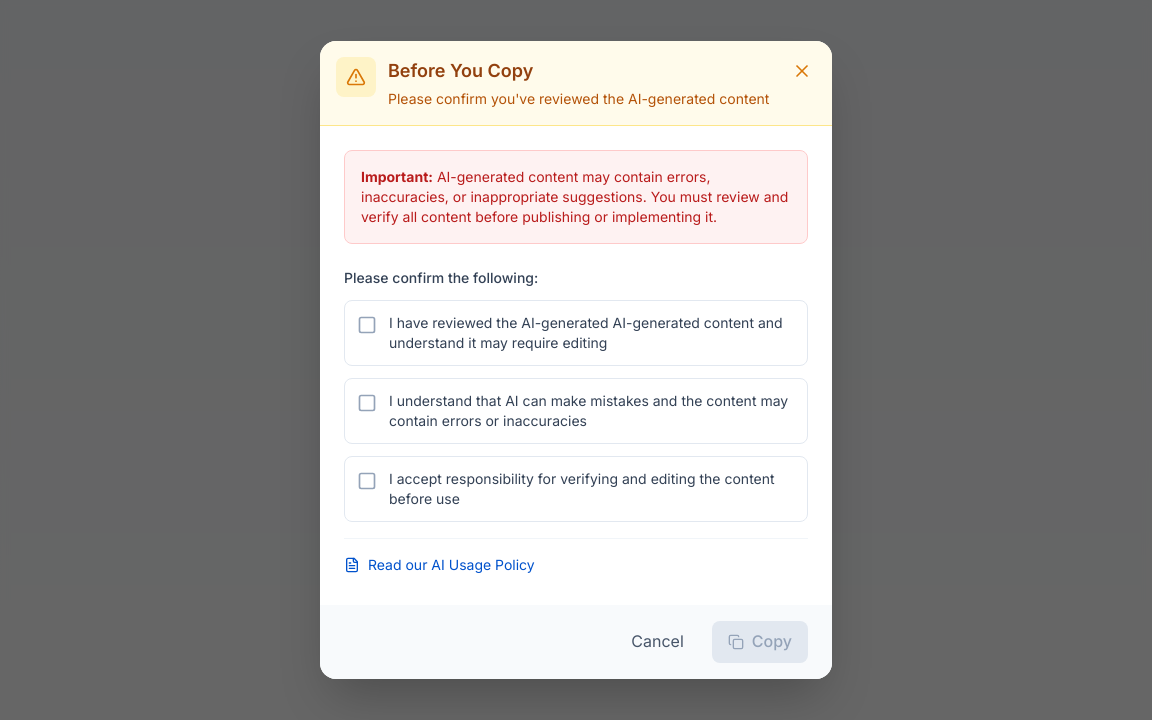
Scenario: AIExportConfirmation › interactions › enables export button when all acknowledgments are checked
Click on the text of each acknowledgment (they are buttons styled as checkboxes)
Click the button "I have reviewed the AI-generated" at (576, 333), box [344, 300, 808, 366]
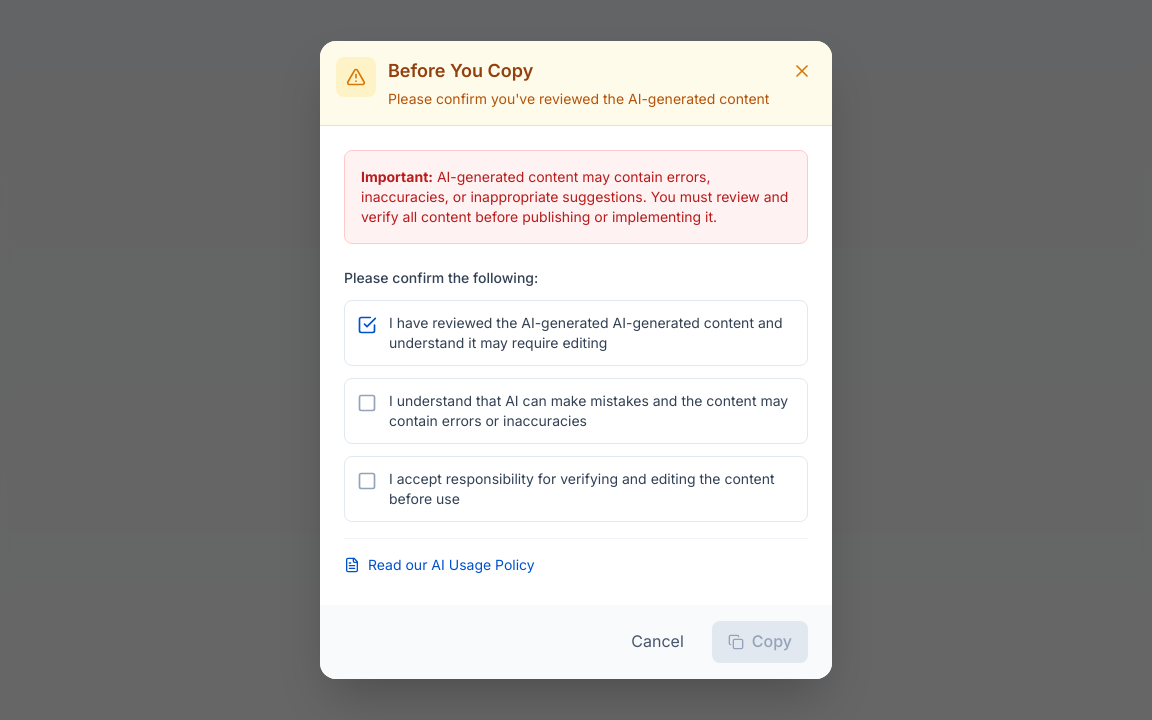
Click the button "I understand that AI can make mistakes" at (576, 411), box [344, 378, 808, 444]
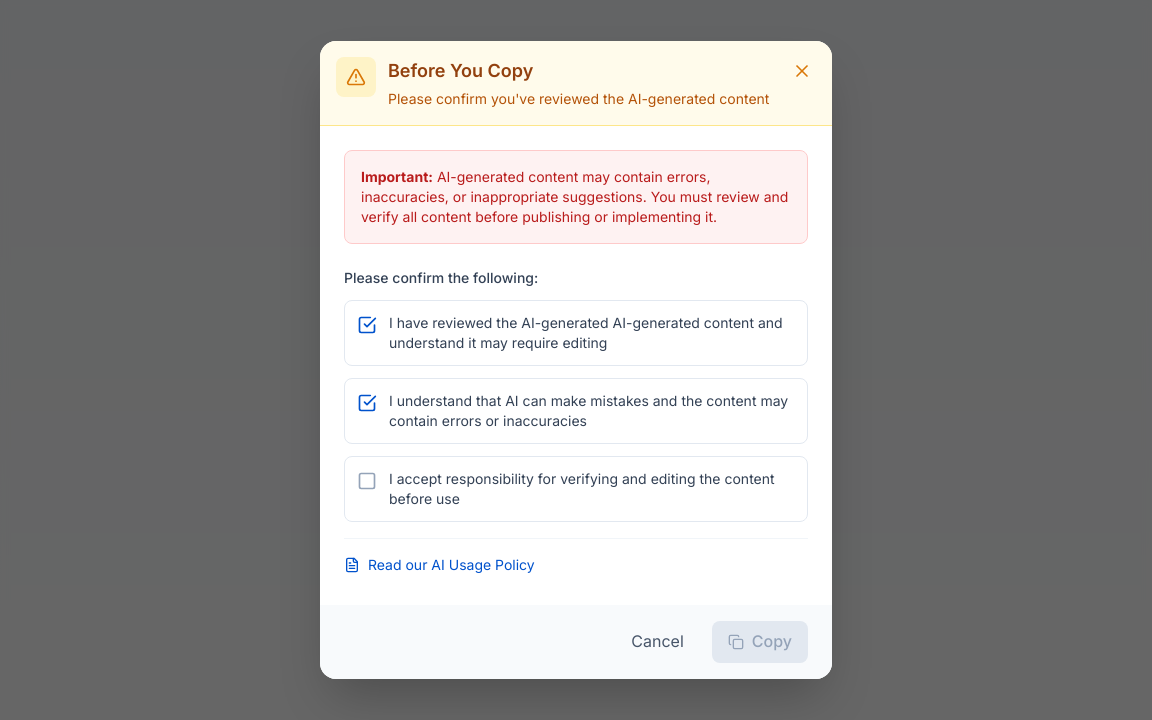
Click the button "I accept responsibility for verifying" at (576, 489), box [344, 456, 808, 522]
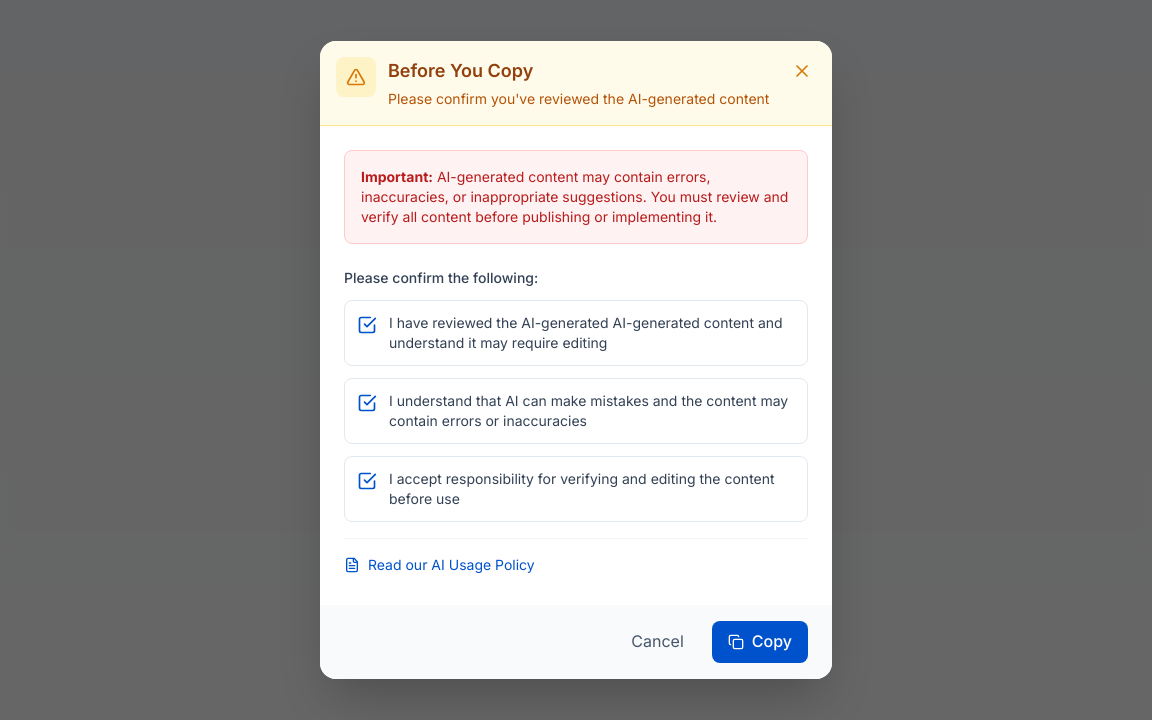
Expected: the button "Copy" is enabled, [712, 621, 808, 663]
